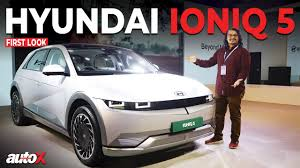Honda Ioniq: (6, 42, 218, 160)
